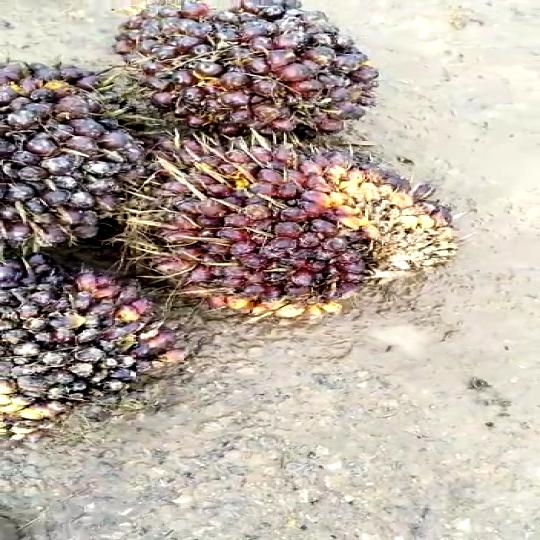kurang masak: (101, 123, 464, 336), (96, 0, 391, 146), (0, 46, 150, 270), (0, 253, 166, 437)
